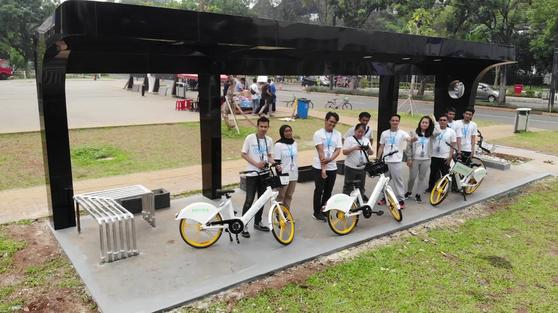bike: (173, 165, 303, 258), (322, 153, 408, 243), (425, 146, 489, 212)
